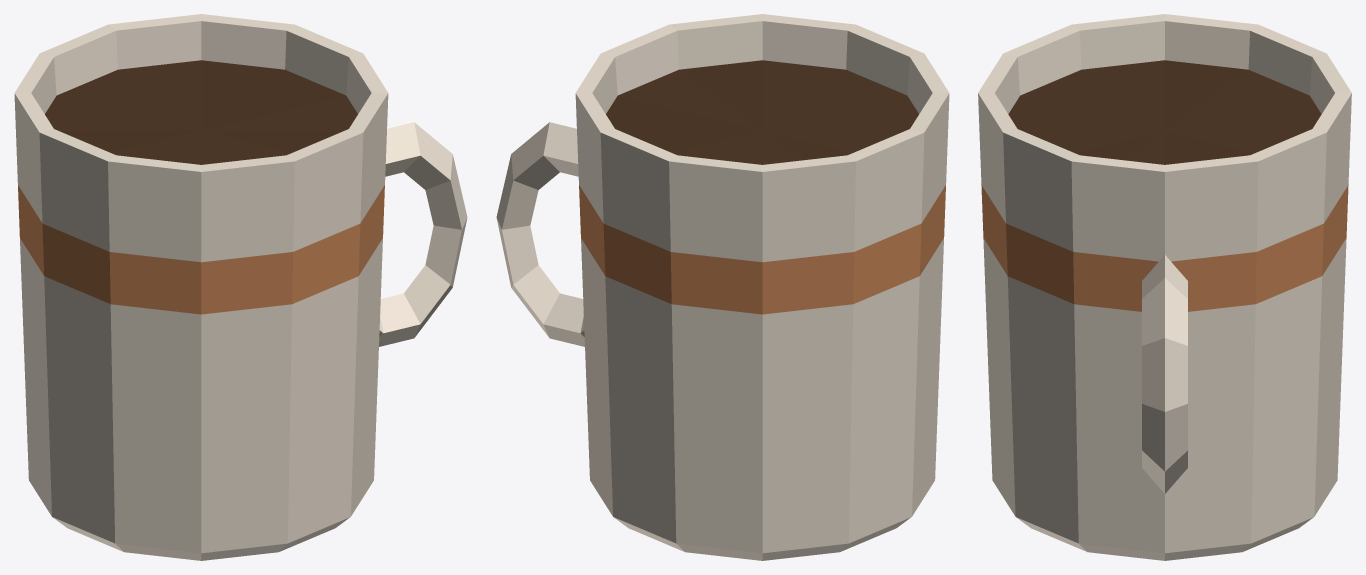
The model's file is taza.glb.
The picture shows the model from 3 angles, left to right: view 1: azimuth 30°, elevation 25°; view 2: azimuth 150°, elevation 25°; view 3: azimuth 270°, elevation 25°; orthographic projection.
Parts seen in each view (by area): view 1: Taza_cuerpo, Taza_cafe, Taza_asa; view 2: Taza_cuerpo, Taza_cafe, Taza_asa; view 3: Taza_cuerpo, Taza_cafe, Taza_asa.
Boxes of the visible parts, x1=… form: Taza_cuerpo: x1=14, y1=14, x2=388, y2=560; Taza_cafe: x1=45, y1=60, x2=357, y2=164; Taza_asa: x1=379, y1=122, x2=467, y2=346; Taza_cuerpo: x1=575, y1=14, x2=949, y2=560; Taza_cafe: x1=606, y1=60, x2=918, y2=164; Taza_asa: x1=496, y1=122, x2=584, y2=346; Taza_cuerpo: x1=978, y1=14, x2=1351, y2=560; Taza_cafe: x1=1008, y1=60, x2=1321, y2=164; Taza_asa: x1=1142, y1=255, x2=1187, y2=493.
Bounding box in the file's own units: 0.1124 × 0.101 × 0.085.
